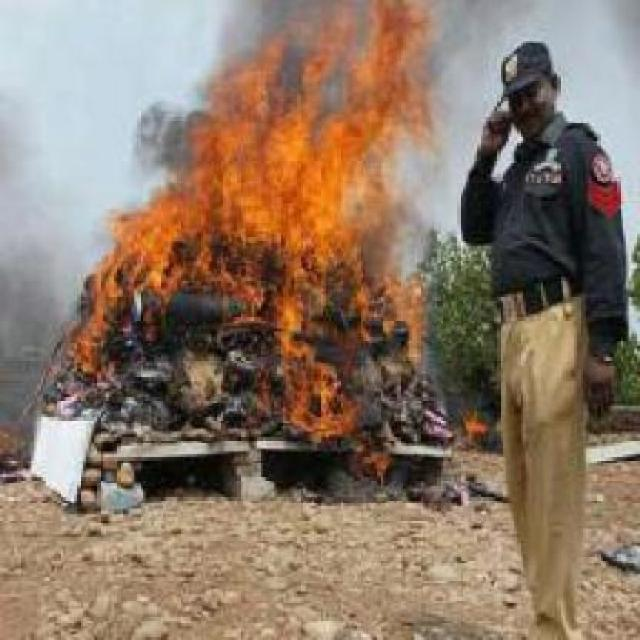Fire: (192, 204, 424, 436), (185, 0, 428, 206), (77, 202, 192, 370)
